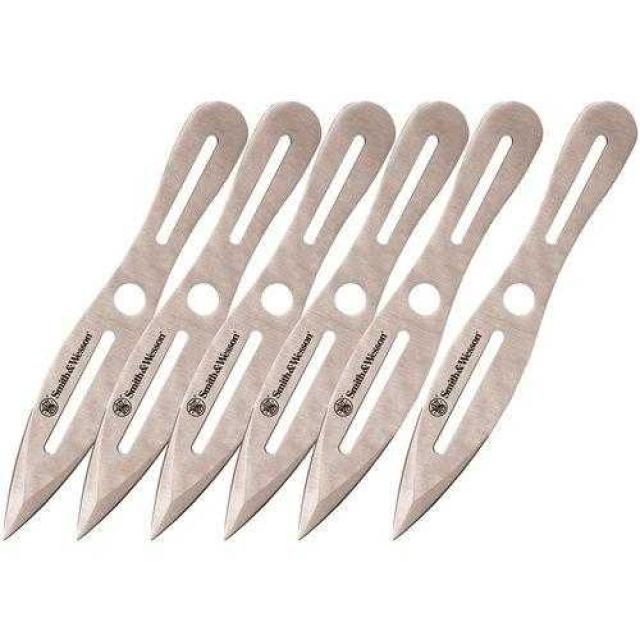Knife: (0, 78, 640, 556)
